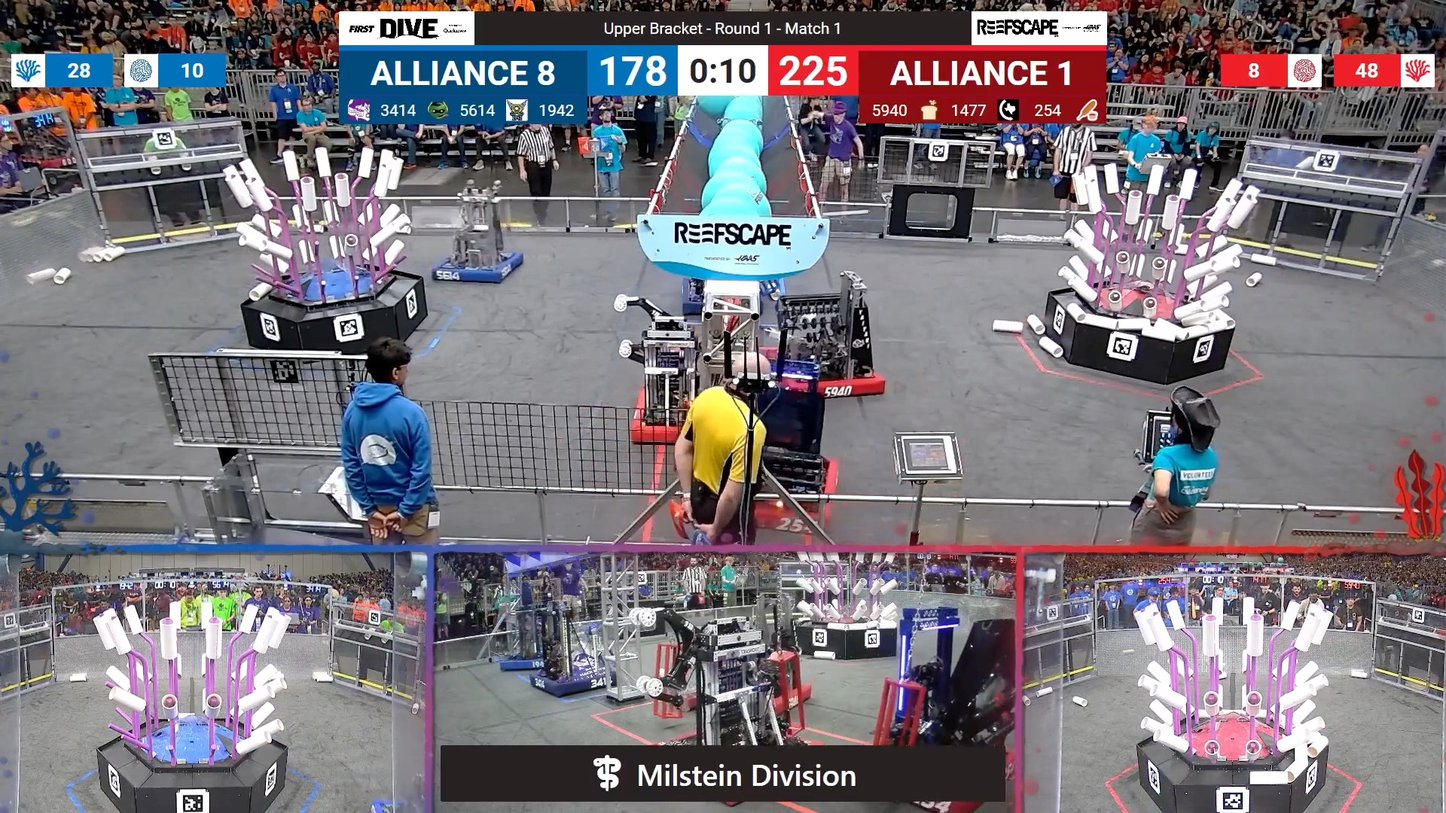bumpers: (728, 450, 837, 539), (770, 340, 892, 405), (633, 389, 746, 442), (427, 247, 530, 287), (516, 665, 616, 699), (497, 653, 555, 674)
